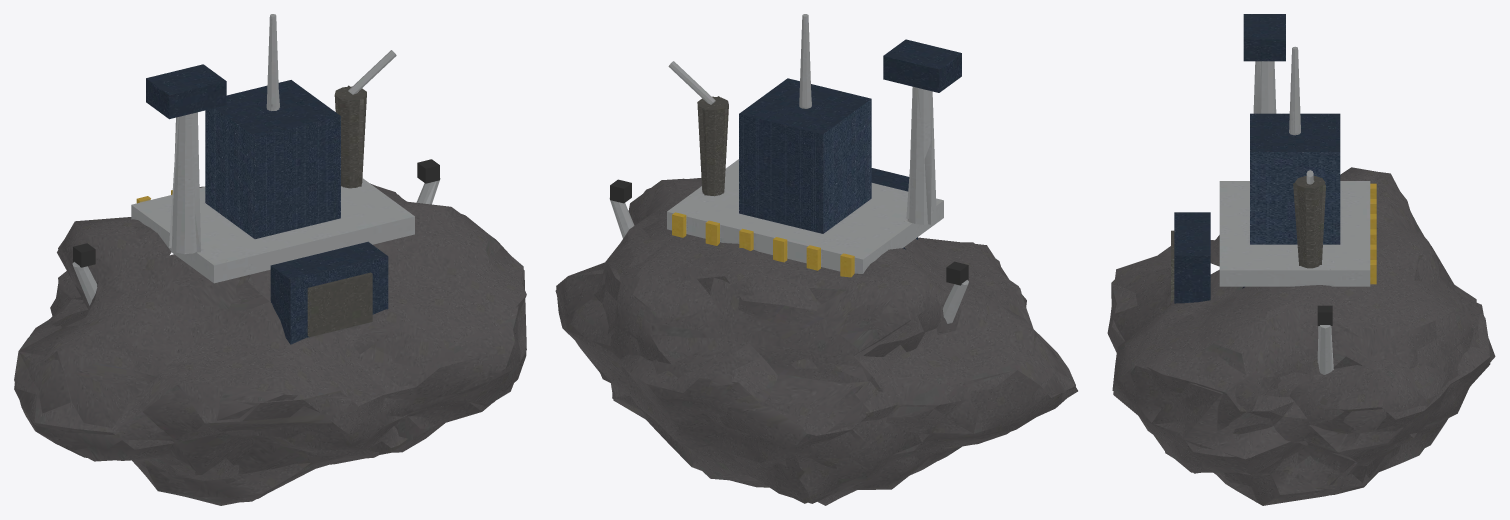
File: sd_prop_lair1.glb
3 views of the same model, side by side, from view 1: azimuth 30°, elevation 25°; view 2: azimuth 150°, elevation 25°; view 3: azimuth 270°, elevation 25° (orthographic). The views are drawn at different scales.
Visible parts, largest first — view 1: LOD0_body, LOD1_body; view 2: LOD0_body, LOD1_body; view 3: LOD0_body, LOD1_body.
Boxes of the visible parts, left/top/right/bottom form: LOD0_body: left=14, top=14, right=526, bottom=505; LOD1_body: left=14, top=85, right=526, bottom=503; LOD0_body: left=556, top=14, right=1075, bottom=505; LOD1_body: left=555, top=87, right=1077, bottom=503; LOD0_body: left=1107, top=14, right=1490, bottom=505; LOD1_body: left=1110, top=61, right=1495, bottom=502.
Bounding box in the file's own units: 1 × 0.924 × 0.7851.
Materials: 1 (1 with a texture image).
